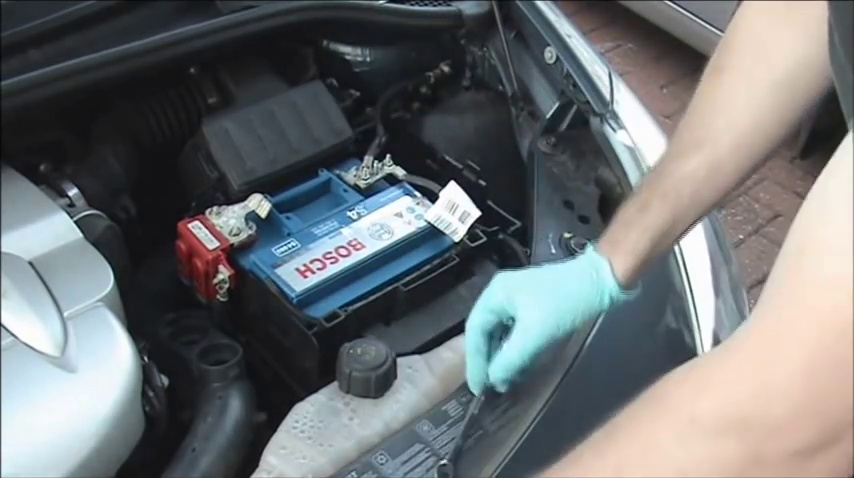battery: (199, 150, 461, 329)
neg_connected: (340, 138, 411, 207)
pos_connected: (183, 180, 273, 302)
